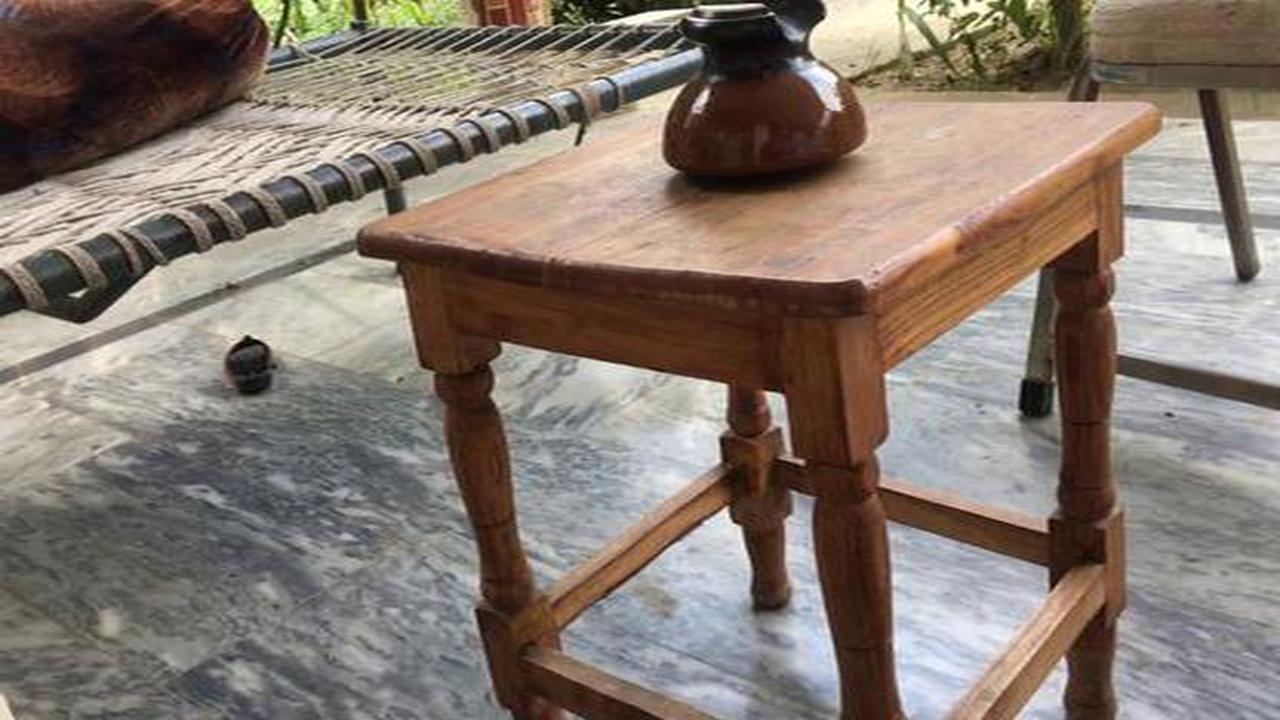insulator_pin: (650, 2, 890, 200)
